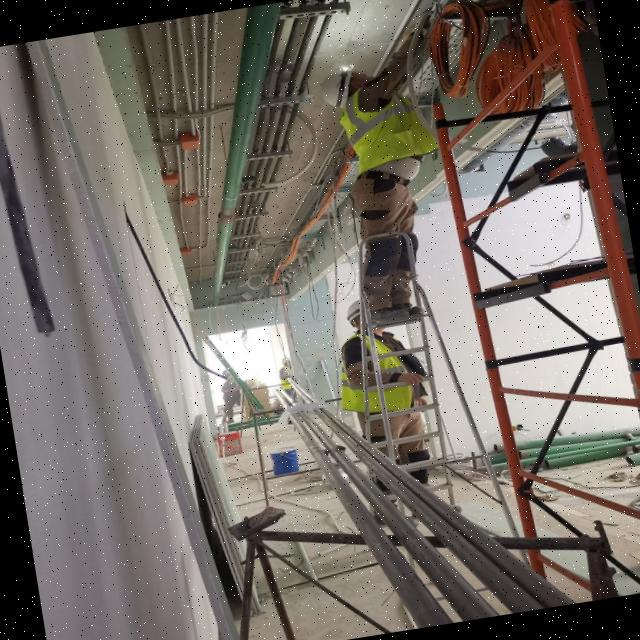Helmet: (318, 70, 363, 107), (345, 301, 365, 329)
Jacket: (345, 88, 427, 185), (343, 333, 416, 419)
